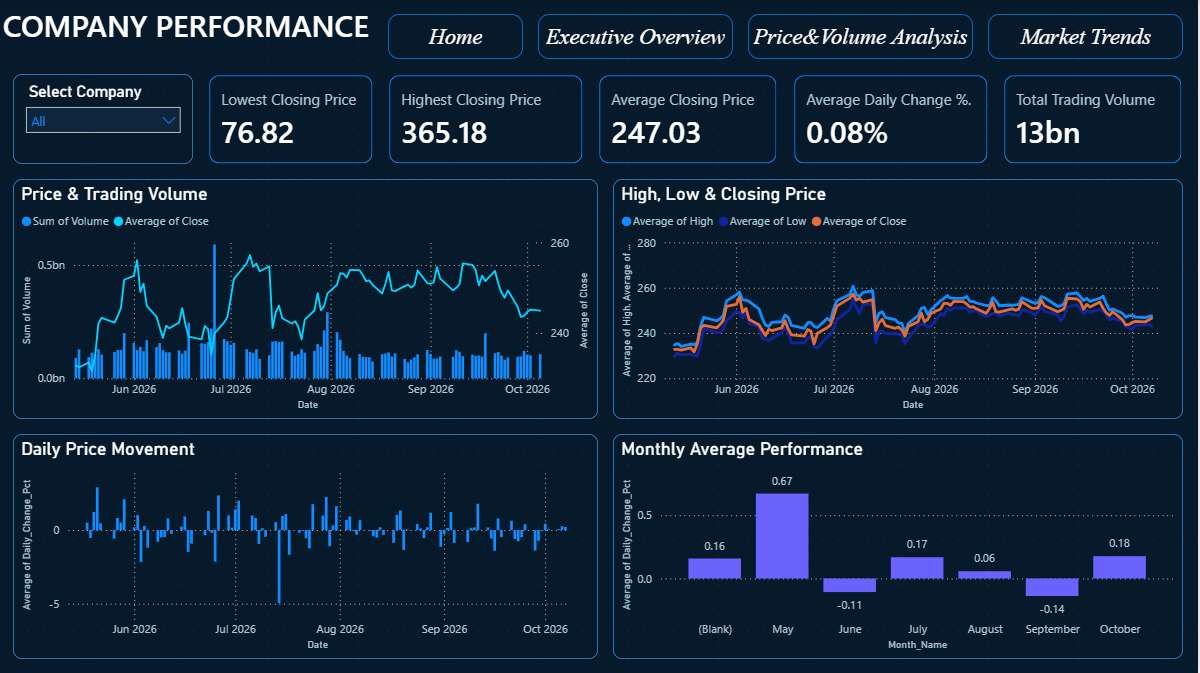

The dashboard page shown, as its layout file describes it:
{"tool":"powerbi","page":{"name":"Company Performance","canvas":[1280,720],"ordinal":3},"visuals":[{"type":"textbox","box":[0,0,416,80],"z":0},{"type":"shape","box":[416,16,144,48],"z":1000},{"type":"shape","box":[576,16,208,48],"z":2000},{"type":"shape","box":[800,16,240,48],"z":3000},{"type":"shape","box":[1056,16,208,48],"z":4000},{"type":"slicer","fields":{"Values":["stock_prices.Symbol"]},"box":[16,80,192,96],"z":5000},{"type":"cardVisual","fields":{"Data":["Avg(stock_prices.Close)"]},"box":[624,64,224,128],"z":6000},{"type":"cardVisual","fields":{"Data":["Max(stock_prices.Close)"]},"box":[400,64,240,128],"z":7000},{"type":"cardVisual","fields":{"Data":["company_kpi.Average Daily Change Display"]},"box":[832,64,240,128],"z":8000},{"type":"cardVisual","fields":{"Data":["Sum(stock_prices.Volume)"]},"box":[1056,64,224,128],"z":9000},{"type":"cardVisual","fields":{"Data":["Min(stock_prices.Close)"]},"box":[208,64,208,128],"z":10000},{"type":"lineClusteredColumnComboChart","title":"Price & Trading Volume","fields":{"Category":["dim_date.Date"],"Y":["Sum(stock_prices.Volume)"],"Y2":["Avg(stock_prices.Close)"]},"box":[16,192,624,256],"z":11000},{"type":"lineChart","title":"High, Low & Closing Price","fields":{"Y":["Avg(stock_prices.High)","Avg(stock_prices.Low)","Avg(stock_prices.Close)"],"Category":["stock_prices.Date"]},"box":[656,192,608,256],"z":12000},{"type":"clusteredColumnChart","title":"Daily Price Movement","fields":{"Category":["stock_prices.Date"],"Y":["Avg(stock_prices.Daily_Change_Pct)"]},"box":[16,464,624,240],"z":13000},{"type":"clusteredColumnChart","title":"Monthly Average Performance","fields":{"Y":["Avg(stock_prices.Daily_Change_Pct)"],"Category":["dim_date.Month_Name"]},"box":[656,464,608,240],"z":14000}]}

Visuals, with their boxes in screenshot pixels (x1, y1, x2, y2), scaled from the page's 1280x720 canvas onto the 1200x673 screenshot:
textbox: <region>0, 0, 390, 75</region>
shape: <region>390, 15, 525, 60</region>
shape: <region>540, 15, 735, 60</region>
shape: <region>750, 15, 975, 60</region>
shape: <region>990, 15, 1185, 60</region>
slicer - stock_prices.Symbol: <region>15, 75, 195, 165</region>
cardVisual - Avg(stock_prices.Close): <region>585, 60, 795, 179</region>
cardVisual - Max(stock_prices.Close): <region>375, 60, 600, 179</region>
cardVisual - company_kpi.Average Daily Change Display: <region>780, 60, 1005, 179</region>
cardVisual - Sum(stock_prices.Volume): <region>990, 60, 1199, 179</region>
cardVisual - Min(stock_prices.Close): <region>195, 60, 390, 179</region>
"Price & Trading Volume" lineClusteredColumnComboChart: <region>15, 179, 600, 419</region>
"High, Low & Closing Price" lineChart: <region>615, 179, 1185, 419</region>
"Daily Price Movement" clusteredColumnChart: <region>15, 434, 600, 658</region>
"Monthly Average Performance" clusteredColumnChart: <region>615, 434, 1185, 658</region>
